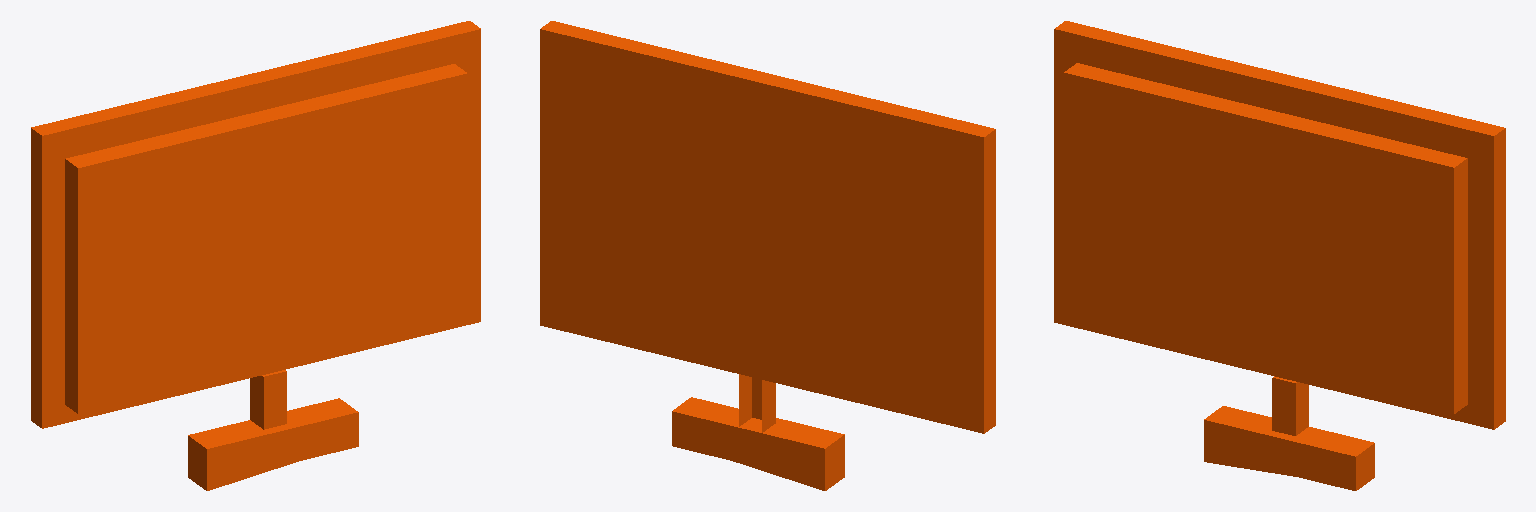
URDF robot description (Monitor_2d0d80f12ee0ff7b353938277c3c1c0c):
<?xml version="1.0" ?>
<robot name="Monitor_2d0d80f12ee0ff7b353938277c3c1c0c">
   <material name="obj_color">
      <color rgba="1.0 0.423529411765 0.0392156862745 1.0"/>
   </material>
   <link name="top">
      <inertial>
         <origin rpy="0.0001235962655409113 0.0001859916512769132 0.0003058647248095588" xyz="-0.0002227608982768361 -0.0004343041410754154 -0.002899154690308853"/>
         <mass value="0.1492271613071884"/>
         <inertia ixx="0.0001236103567344923" ixy="-8.289002098581849e-08" ixz="9.362358846572242e-07" iyy="0.000305864464950041" iyz="1.636223188219691e-07" izz="0.00018597781994285"/>
      </inertial>
      <visual>
         <origin rpy="0 0 0" xyz="0 0 0"/>
         <geometry>
            <mesh filename="top_watertight_tiny.stl" scale="1 1 1"/>
         </geometry>
         <material name="obj_color"/>
      </visual>
      <collision>
         <origin rpy="0 0 0" xyz="0 0 0"/>
         <geometry>
            <mesh filename="top_watertight_tiny.obj" scale="1 1 1"/>
         </geometry>
      </collision>
   </link>
   <link name="bottom">
      <inertial>
         <origin rpy="1.633333333199431e-08 1.633333333199431e-08 1.633333333362855e-08" xyz="0.3464080000000008 0.3464080000000008 0.3464080000000008"/>
         <mass value="0.0009800000000000017"/>
         <inertia ixx="1.633333333253906e-08" ixy="5.447480642029219e-19" ixz="5.447480642029219e-19" iyy="1.633333333253906e-08" iyz="5.447480642029219e-19" izz="1.633333333253906e-08"/>
      </inertial>
      <visual>
         <origin rpy="0 0 0" xyz="0 0 0"/>
         <geometry>
            <mesh filename="bottom_watertight_tiny.stl" scale="1 1 1"/>
         </geometry>
         <material name="obj_color"/>
      </visual>
   </link>
   <joint name="rotation" type="revolute">
      <origin xyz="0 0 0"/>
      <axis xyz="0 0 -1"/>
      <parent link="bottom"/>
      <child link="top"/>
      <dynamics damping="1.0" friction="1.0"/>
      <limit effort="0.1" velocity="0.1" lower="0" upper="0.001"/>
   </joint>
</robot>

--- What the picture shows (computed from the rendered views, not written in the file) ---
Views: 3 orthographic renders of the robot side by side, from view 1: azimuth 30°, elevation 25°; view 2: azimuth 150°, elevation 25°; view 3: azimuth 330°, elevation 25°.
Robot: Monitor_2d0d80f12ee0ff7b353938277c3c1c0c — 2 links, 1 joints (1 revolute); root link bottom; default pose: all joints at 0.
Visible links, largest first — view 1: top; view 2: top; view 3: top.
Boxes of the visible links, box(x1,y1,x2,y2) form: top: box(31, 21, 480, 490); top: box(540, 21, 995, 490); top: box(1054, 21, 1505, 490).
Bounding box of the posed robot: 0.1297 × 0.0126 × 0.1096 m (x, y, z).
1 mesh visuals loaded from 2 distinct referenced files (1 binary STL); not drawn: 1 (reference not matched to a file when rendering).
